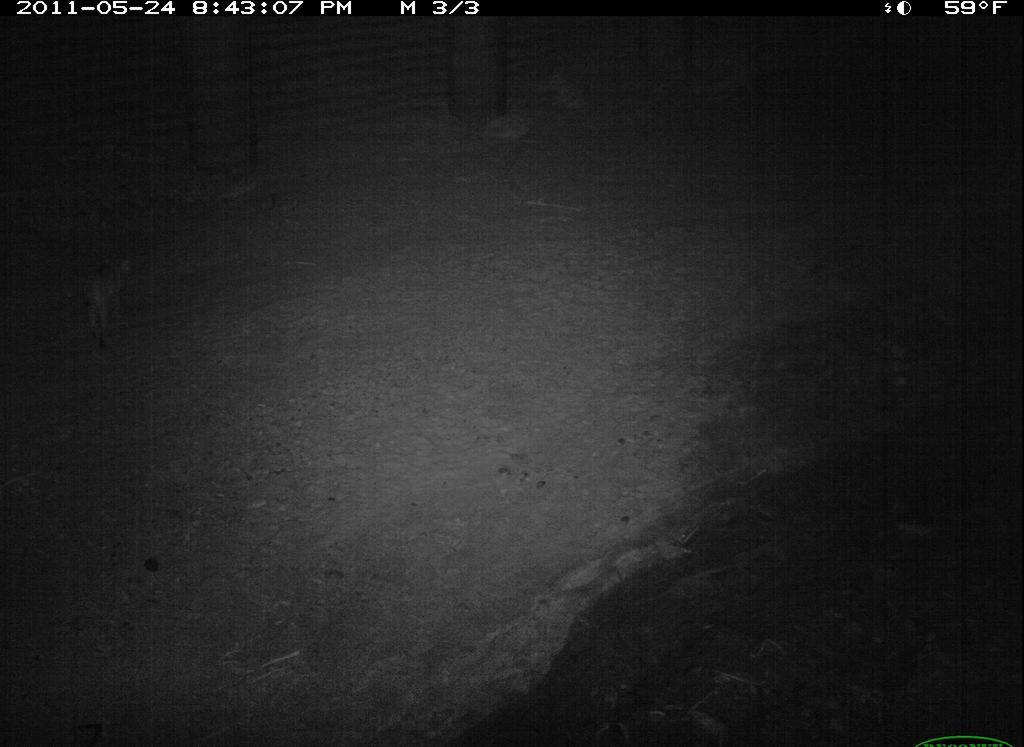bobcat: (75, 248, 146, 342)
